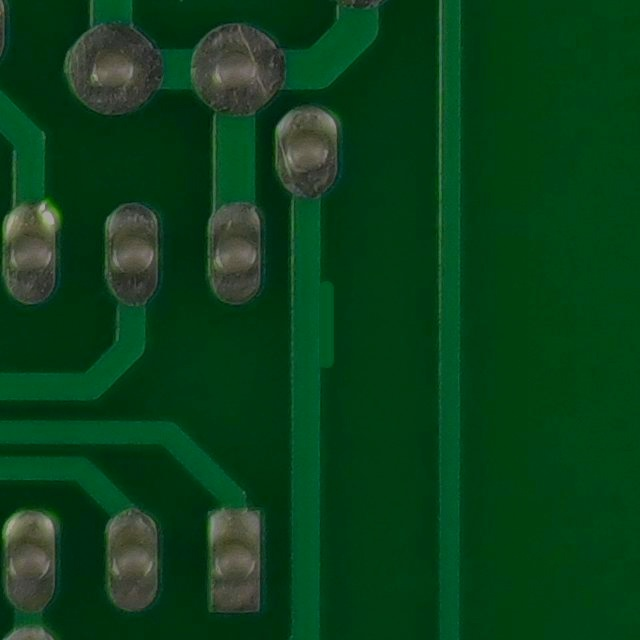spur: (278, 262, 362, 379)
